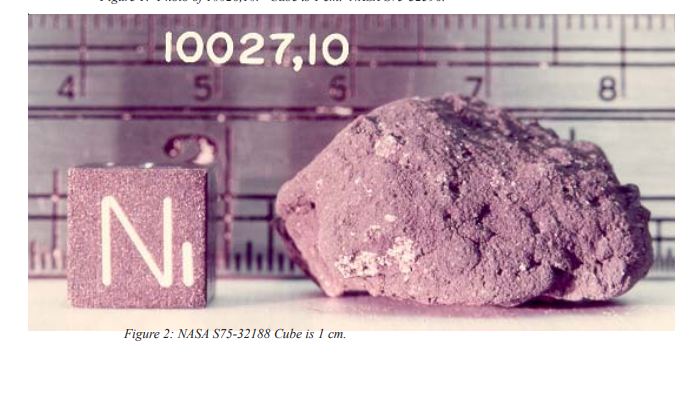Breccia: (231, 68, 665, 307)
